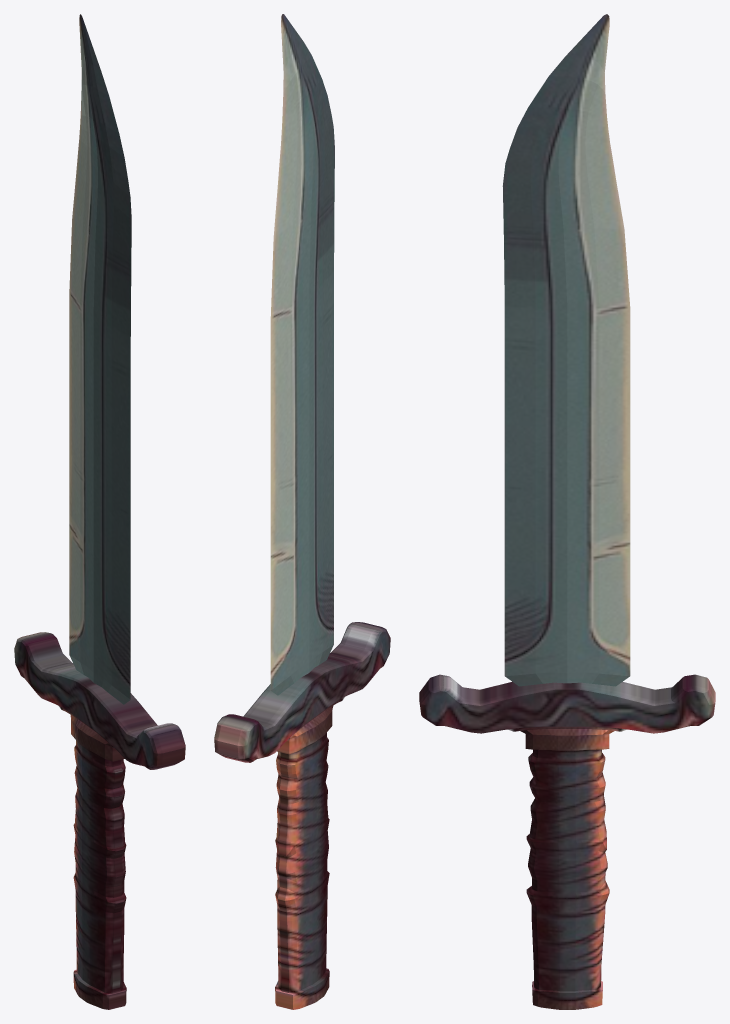
The model's file is IronDagger.glb.
3 views of the same model, side by side, from view 1: azimuth 30°, elevation 25°; view 2: azimuth 150°, elevation 25°; view 3: azimuth 270°, elevation 25° (orthographic). The views are drawn at different scales.
Visible parts, largest first — view 1: Cube.001, Cube; view 2: Cube.001, Cube; view 3: Cube.001, Cube.
Boxes of the visible parts, x1,y1,x2,y2 form: Cube.001: (69,14,131,704); Cube: (14,632,185,1009); Cube.001: (270,14,334,695); Cube: (214,622,390,1009); Cube.001: (502,14,630,686); Cube: (419,674,715,1009).
Size of the model in its own units: 0.154 by 4.11 by 1.11.
Materials: 2 (2 with a texture image).
